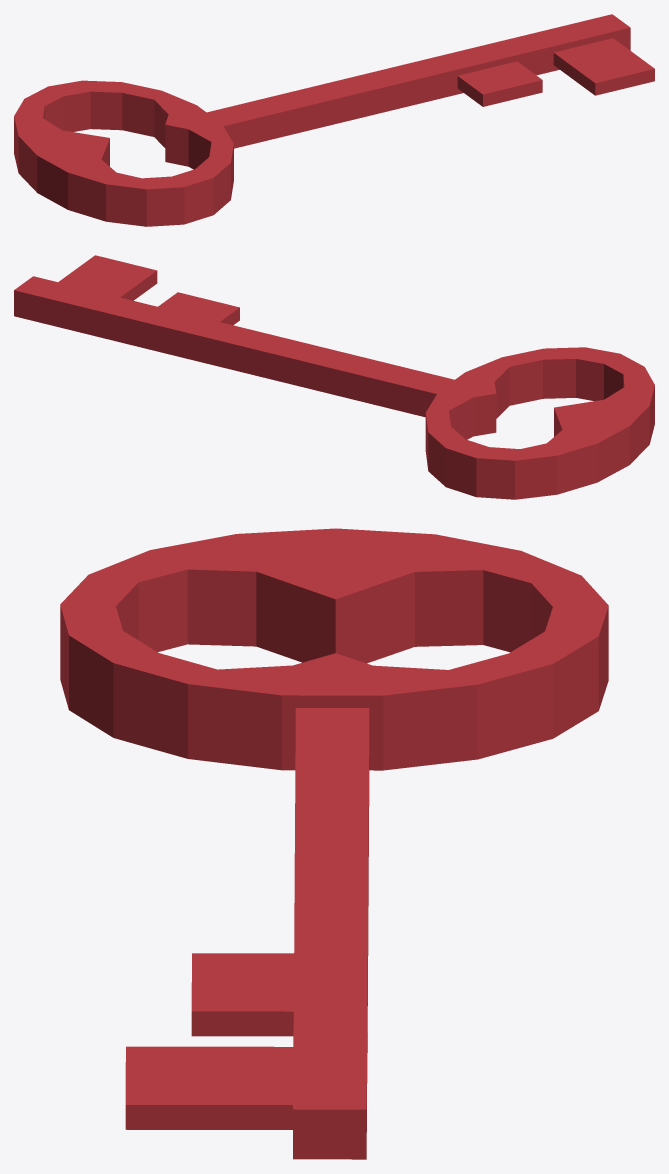
The model's file is Chave_Colorida.fbx.
3 renders of one model, top to bottom at view 1: azimuth 30°, elevation 25°; view 2: azimuth 150°, elevation 25°; view 3: azimuth 270°, elevation 25°, orthographic. The views are drawn at different scales.
Parts seen in each view (by area): view 1: Chaves_Coloridas; view 2: Chaves_Coloridas; view 3: Chaves_Coloridas.
Part boxes in pixels (x1,y1,x2,y2): Chaves_Coloridas: (14,14,654,226); Chaves_Coloridas: (14,255,654,499); Chaves_Coloridas: (60,528,608,1159).
Size of the model in its own units: 488 by 30 by 199.
